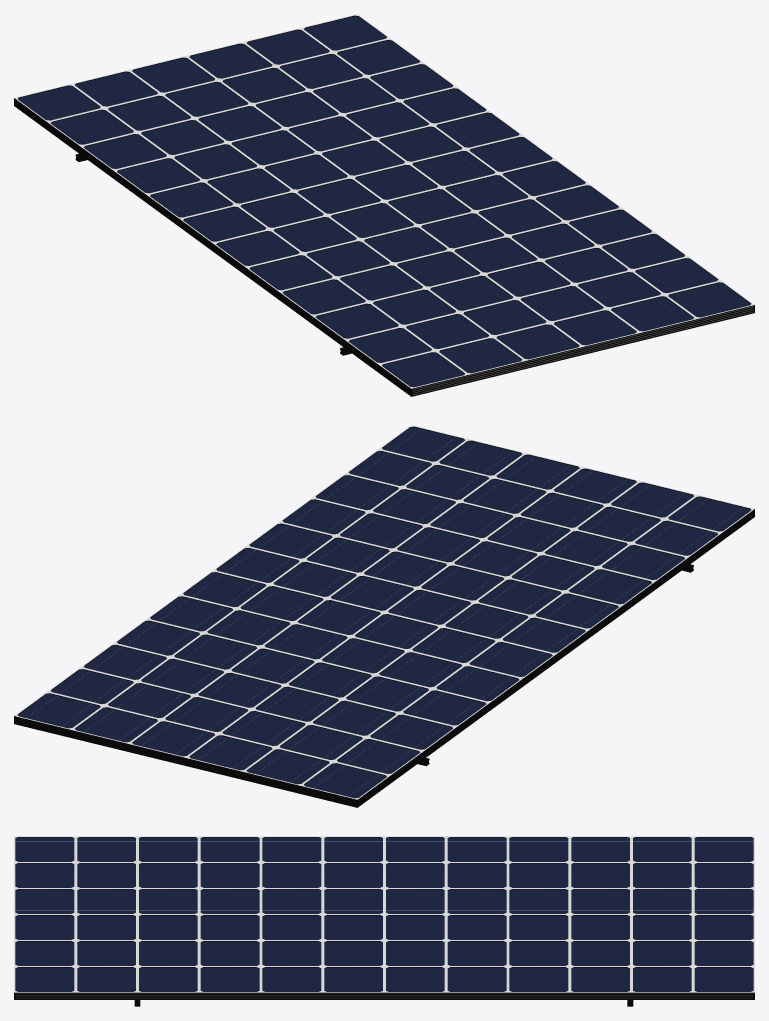
Rendered from uploads_files_2859277_Solar+Panel.glb.
3 renders of one model, top to bottom at view 1: azimuth 30°, elevation 25°; view 2: azimuth 150°, elevation 25°; view 3: azimuth 270°, elevation 25°, orthographic. The views are drawn at different scales.
Visible parts, largest first — view 1: Cube.002; view 2: Cube.002; view 3: Cube.002, Plane.
Part boxes in pixels (x1,y1,x2,y2): Cube.002: [14, 14, 754, 396]; Cube.002: [14, 425, 754, 807]; Cube.002: [14, 836, 754, 1006]; Plane: [15, 841, 753, 910].
Bounding box in the file's own units: 1.02 × 0.037 × 2.
